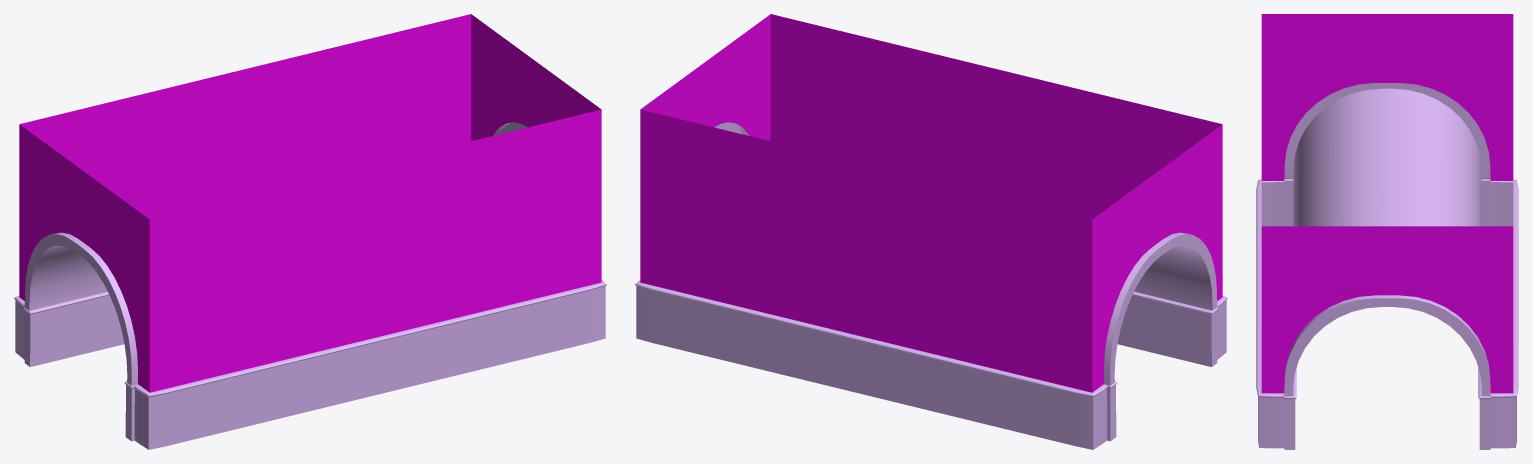
Rendered from Bottom3.fbx.
The picture shows the model from 3 angles, left to right: view 1: azimuth 30°, elevation 25°; view 2: azimuth 150°, elevation 25°; view 3: azimuth 270°, elevation 25°; orthographic projection. The views are drawn at different scales.
Visible parts, largest first — view 1: B3; view 2: B3; view 3: B3.
Part boxes in pixels (left/top/right/bottom): B3: left=14, top=14, right=606, bottom=449; B3: left=635, top=14, right=1227, bottom=449; B3: left=1256, top=14, right=1518, bottom=449.
Bounding box in the file's own units: 8.27 × 3.87 × 4.17.
